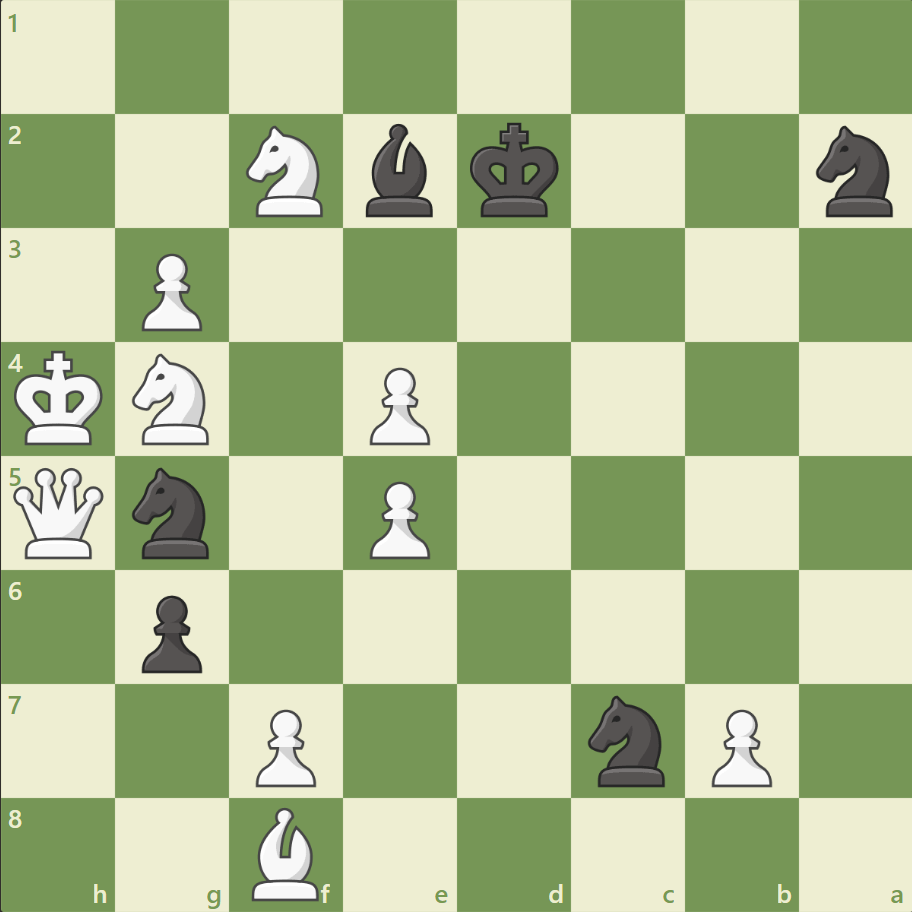B: (244, 801, 328, 904)
K: (11, 344, 111, 452)
N: (124, 348, 222, 450), (238, 121, 335, 223)
P: (701, 700, 776, 791), (247, 700, 322, 791), (133, 246, 208, 337), (361, 473, 435, 564), (361, 359, 435, 450)
Q: (10, 463, 109, 562)
b: (358, 120, 442, 222)
k: (465, 117, 565, 225)
n: (124, 461, 222, 564), (579, 688, 676, 791), (806, 121, 903, 223)
p: (133, 586, 208, 677)
